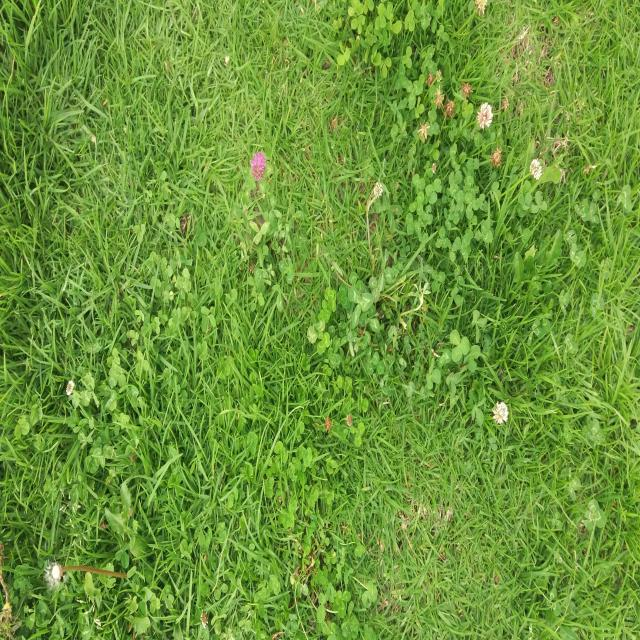Four Leaf Clover: (318, 299, 331, 323)
